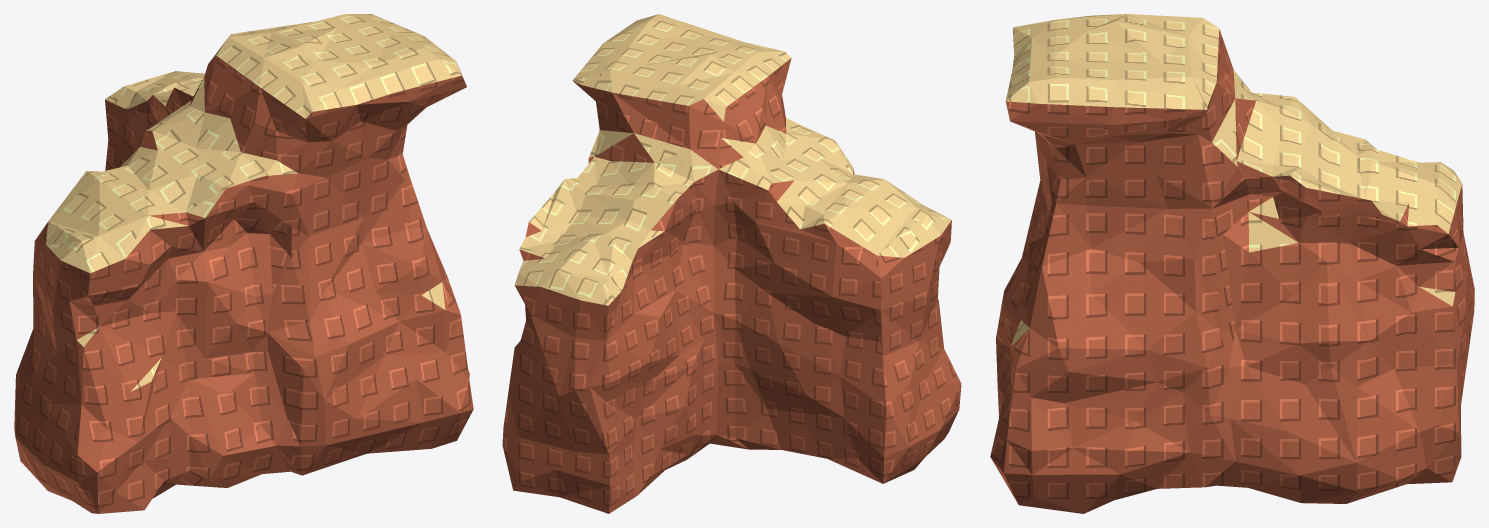
The model's file is DesertCornerRock.glb.
3 renders of one model, left to right at view 1: azimuth 30°, elevation 25°; view 2: azimuth 150°, elevation 25°; view 3: azimuth 270°, elevation 25°, orthographic. The views are drawn at different scales.
Visible parts, largest first — view 1: DesertCornerRock_Rock, DesertCornerRock_Top; view 2: DesertCornerRock_Rock, DesertCornerRock_Top; view 3: DesertCornerRock_Rock, DesertCornerRock_Top.
Part boxes in pixels (x1,y1,x2,y2): DesertCornerRock_Rock: (14,55,473,513); DesertCornerRock_Top: (46,14,461,391); DesertCornerRock_Rock: (502,58,961,513); DesertCornerRock_Top: (515,14,951,345); DesertCornerRock_Rock: (990,29,1474,513); DesertCornerRock_Top: (1006,14,1462,346).
Bounding box in the file's own units: 12.58 × 12.56 × 12.51.
Materials: 2 (2 with a texture image).
